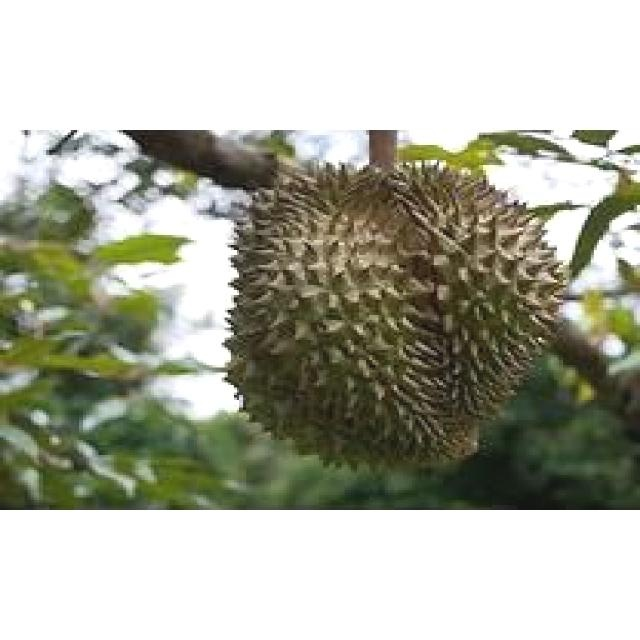agrume: (210, 152, 582, 480)
